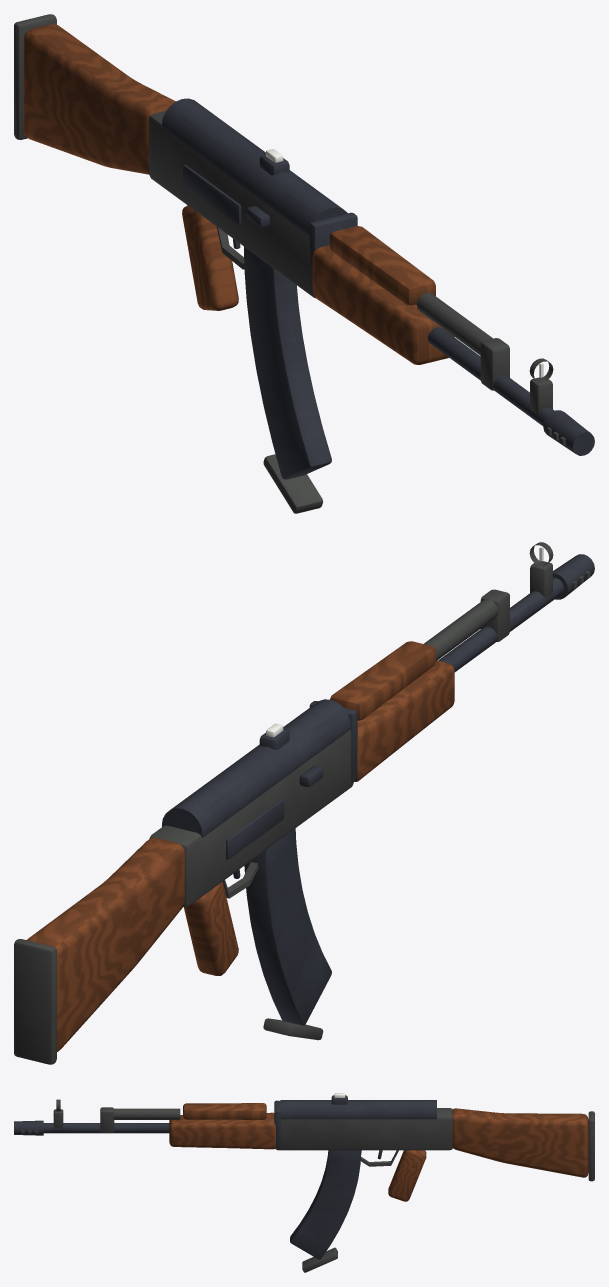
3 views of the same model, one above another, from view 1: azimuth 30°, elevation 25°; view 2: azimuth 150°, elevation 25°; view 3: azimuth 270°, elevation 25° (orthographic). The views are drawn at different scales.
Parts seen in each view (by area): view 1: w_kf7; view 2: w_kf7; view 3: w_kf7.
Part boxes in pixels (x1,y1,x2,y2): w_kf7: [14, 14, 594, 513]; w_kf7: [14, 542, 594, 1064]; w_kf7: [14, 1093, 594, 1272].
Bounding box in the file's own units: 0.0629 × 0.3589 × 1.07.
Materials: 5 (4 with a texture image).
